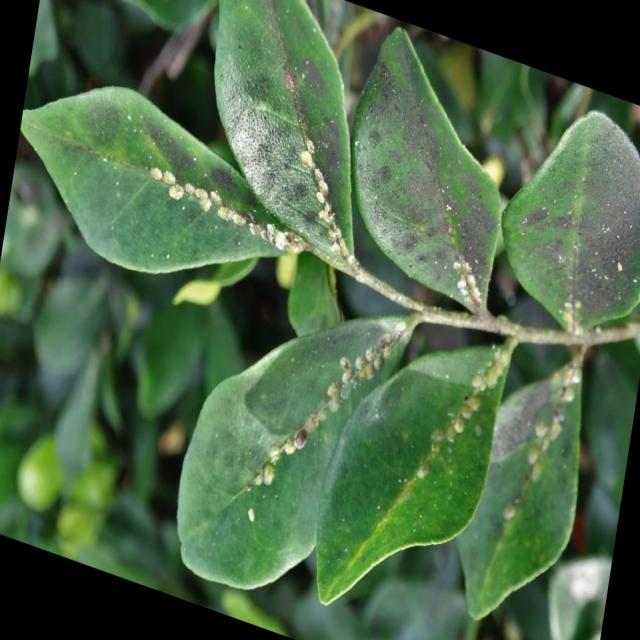Gymnosporangium_Rusts: (18, 2, 637, 624)
